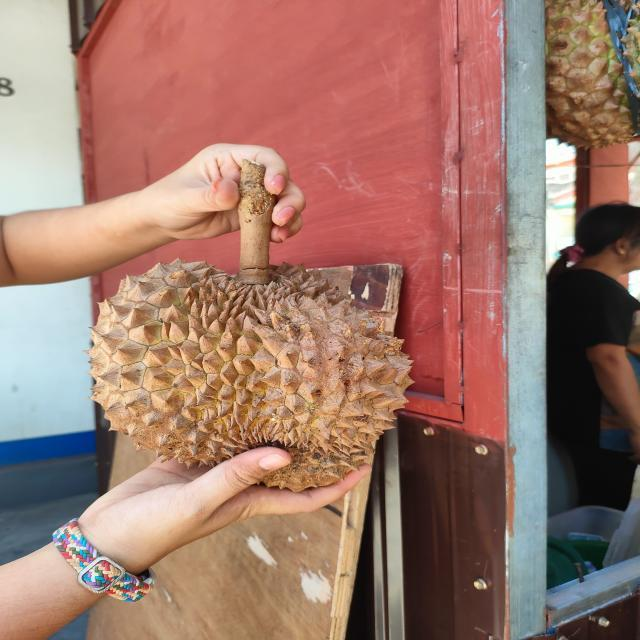mature: (82, 256, 416, 493)
